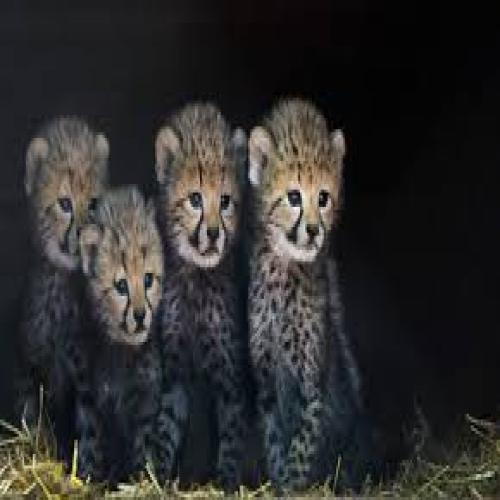cheetah-endangered: (250, 102, 363, 480), (153, 108, 250, 489), (23, 120, 110, 429), (78, 190, 164, 474)
